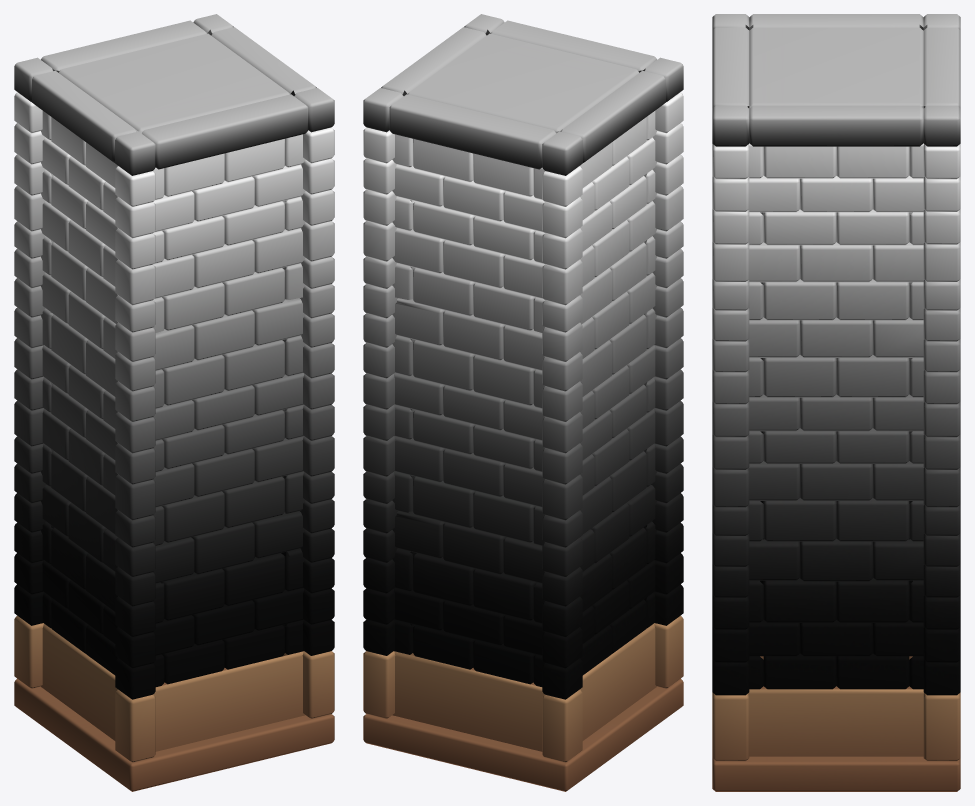
The model's file is SM_Brick_Body_04.fbx.
3 views of the same model, side by side, from view 1: azimuth 30°, elevation 25°; view 2: azimuth 150°, elevation 25°; view 3: azimuth 270°, elevation 25° (orthographic). The views are drawn at different scales.
Parts seen in each view (by area): view 1: SM_Brick_Body_04; view 2: SM_Brick_Body_04; view 3: SM_Brick_Body_04.
Boxes of the visible parts, x1,y1,x2,y2 form: SM_Brick_Body_04: (14,14,334,791); SM_Brick_Body_04: (363,14,683,791); SM_Brick_Body_04: (712,14,960,791).
Bounding box in the file's own units: 0.9991 × 3 × 0.9991.
